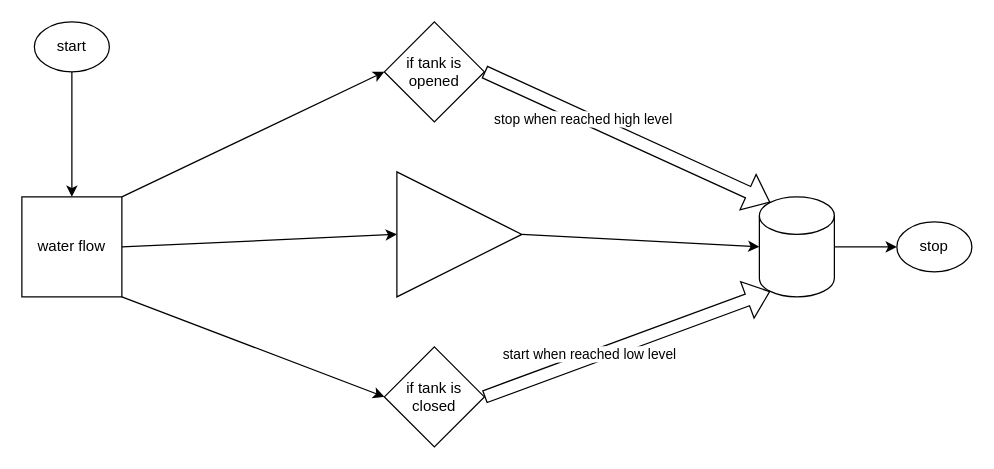
Some shapes in this 994 by 469 pixel diagram are drawn without their labels. Here are the shapes that lost their labels. From the top down, the centre of each, then its label:
the point at 459,234: LED glows when water is flowing
the point at 796,246: tank
